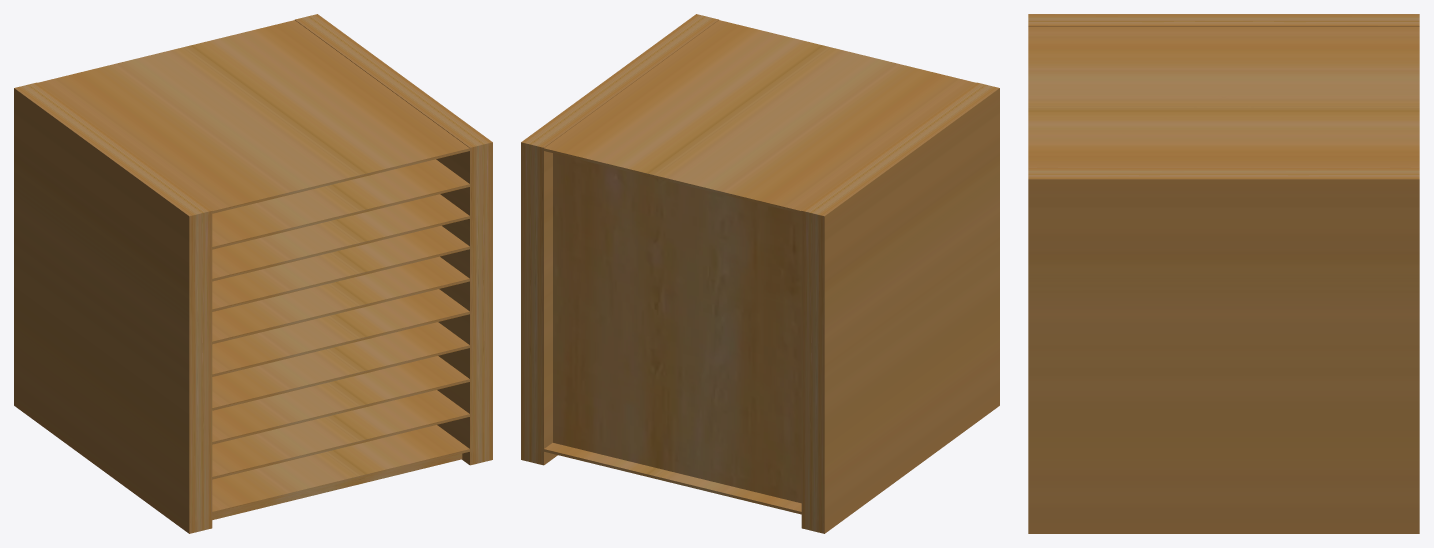
Rendered from sh-contrib-tour-range-cd.glb.
3 renders of one model, left to right at view 1: azimuth 30°, elevation 25°; view 2: azimuth 150°, elevation 25°; view 3: azimuth 270°, elevation 25°, orthographic. The views are drawn at different scales.
Visible parts, largest first — view 1: Cube_1_1; view 2: Cube_1_1; view 3: Cube_1_1.
Part boxes in pixels (x1=…): Cube_1_1: x1=14, y1=14, x2=492, y2=533; Cube_1_1: x1=521, y1=14, x2=999, y2=533; Cube_1_1: x1=1028, y1=14, x2=1419, y2=533.
Bounding box in the file's own units: 1 × 1 × 1.
1 material, 1 textured.
